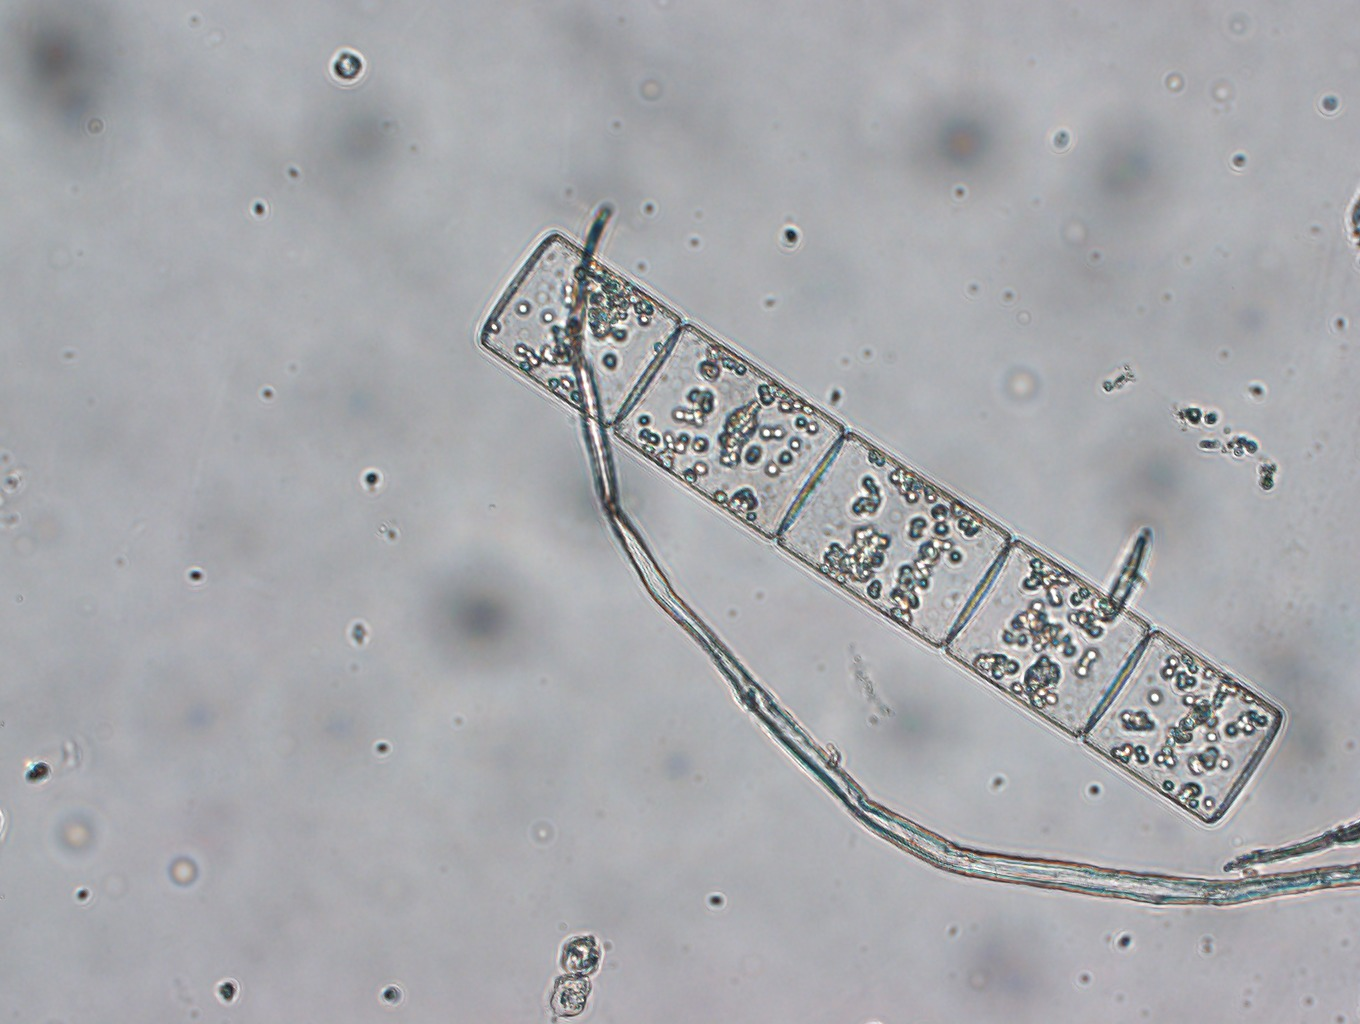guinardia flaccida: (464, 217, 1293, 833)
